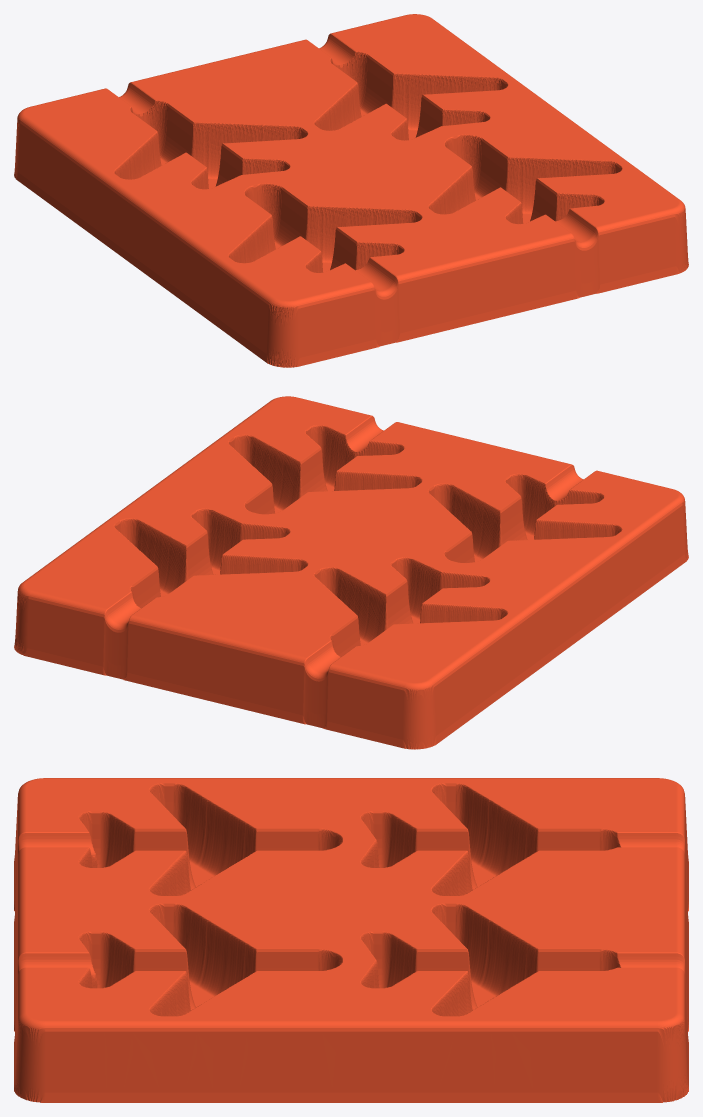
The model's file is mold.glb.
3 renders of one model, top to bottom at view 1: azimuth 30°, elevation 25°; view 2: azimuth 150°, elevation 25°; view 3: azimuth 270°, elevation 25°, orthographic. The views are drawn at different scales.
Parts seen in each view (by area): view 1: geometry_0; view 2: geometry_0; view 3: geometry_0.
Boxes of the visible parts, x1,y1,x2,y2 form: geometry_0: (14, 14, 688, 367); geometry_0: (14, 396, 688, 749); geometry_0: (14, 778, 688, 1102).
Bounding box in the file's own units: 0.1726 × 0.0245 × 0.1951.
